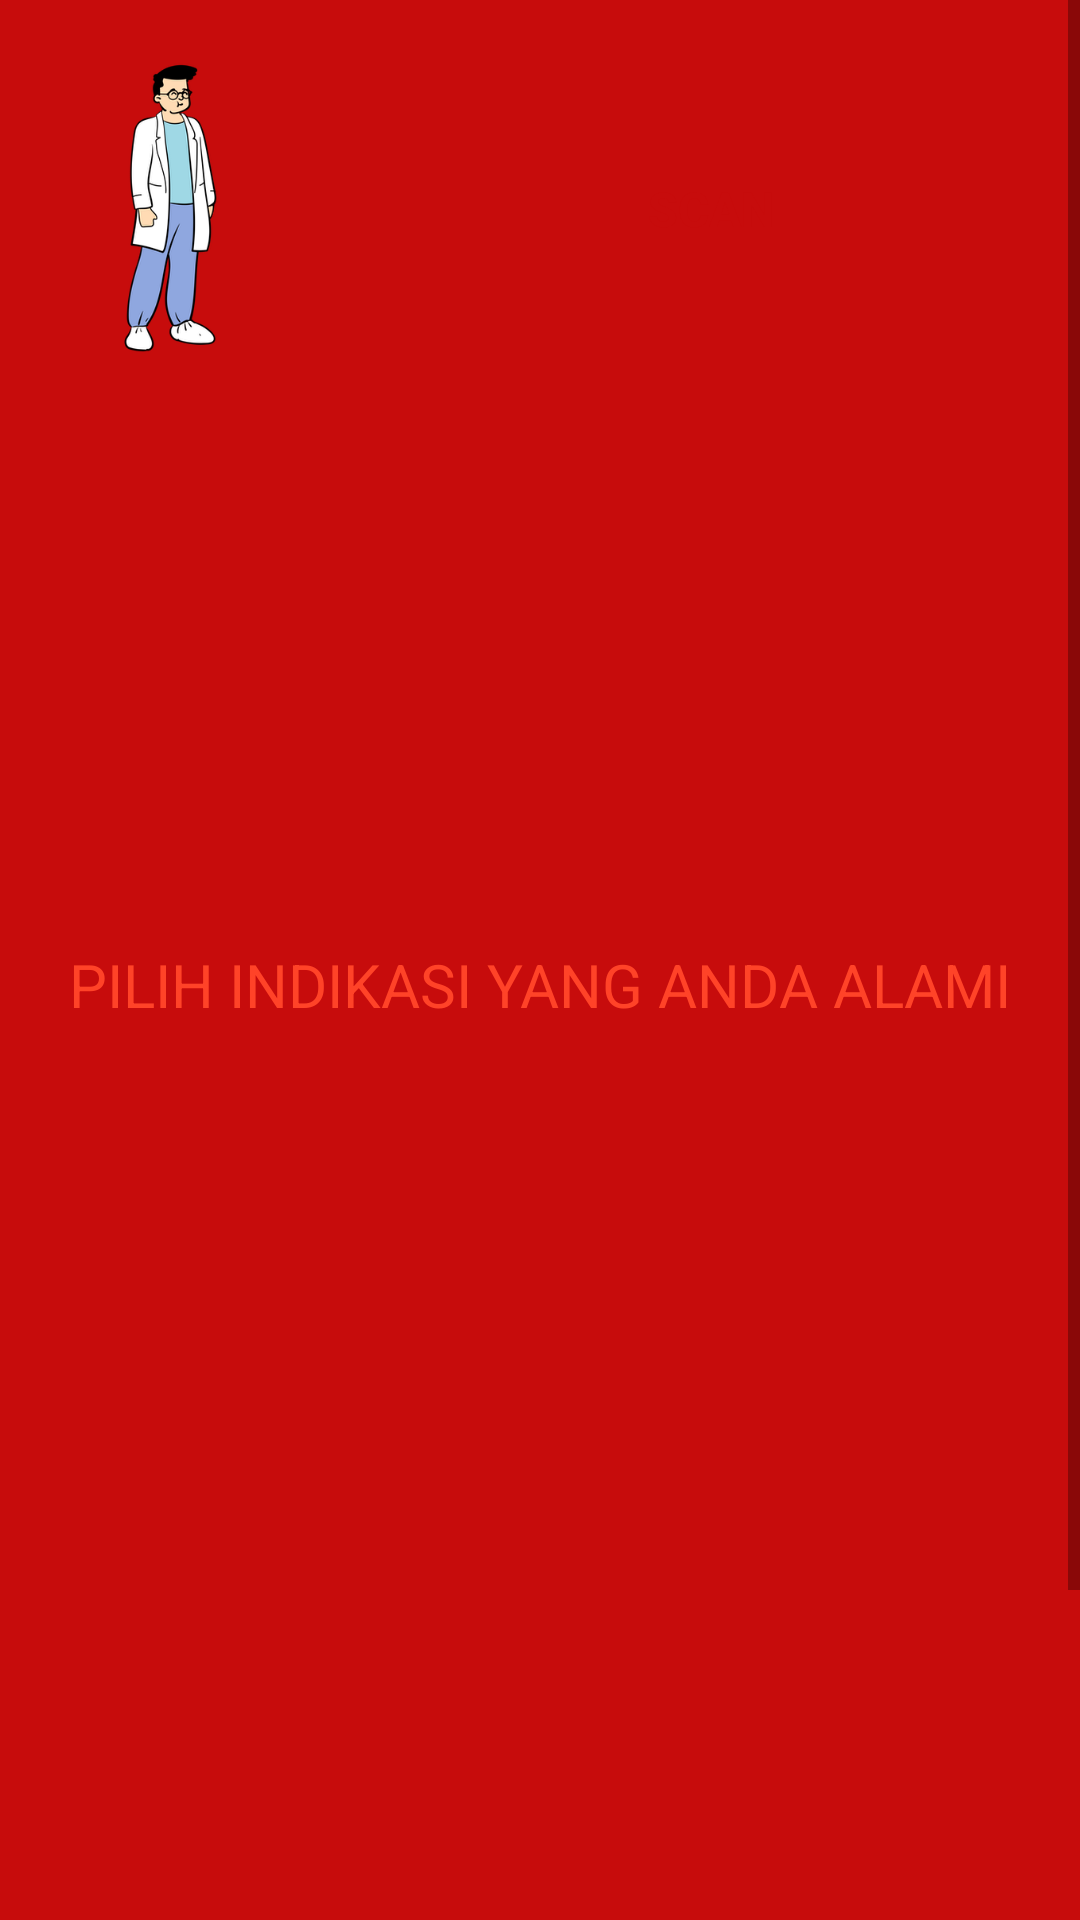

Icon click points for this 1080 × 1920 phone screenshot, format [x,y]:
doctor human: [170,208]
